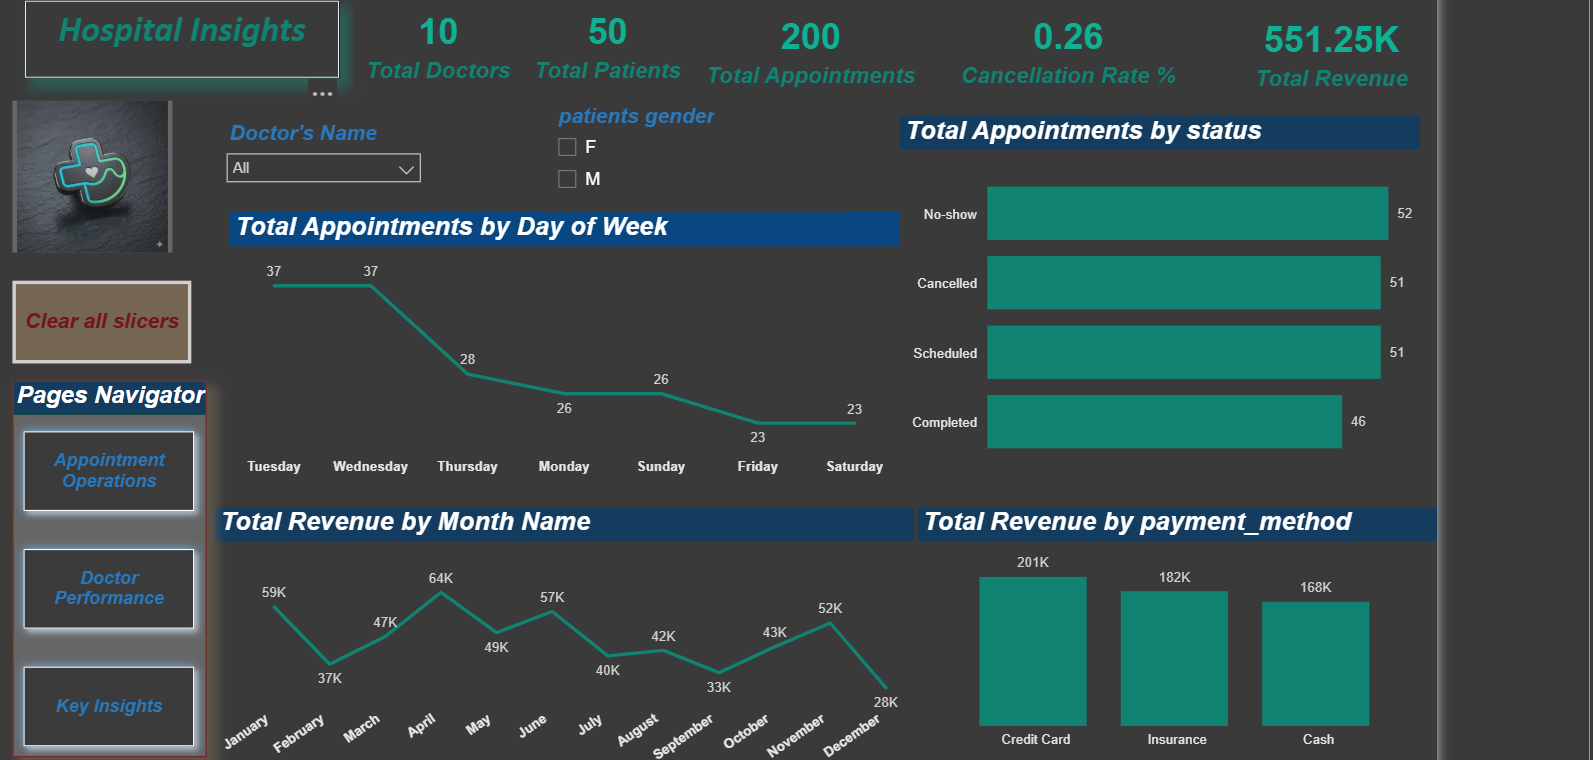

The page's visual inventory and layout, read from the dashboard file:
{"tool":"powerbi","page":{"name":"Hospital Insights","canvas":[1280,720],"ordinal":0},"visuals":[{"type":"textbox","box":[21.7,12.1,279.9,68.8],"z":0},{"type":"card","fields":{"Values":["doctors.Total Doctors"]},"box":[314.9,12.1,150.8,76],"z":1000},{"type":"card","fields":{"Values":["patients.Total Patients"]},"box":[465.7,12.1,152,76],"z":2000},{"type":"card","fields":{"Values":["appointments.Total Appointments"]},"box":[617.7,7.2,208.7,94.1],"z":3000},{"type":"card","fields":{"Values":["appointments.Cancellation Rate %"]},"box":[845.7,0,211.1,108.6],"z":4000},{"type":"card","fields":{"Values":["billing.Total Revenue"]},"box":[1107.5,0,156.8,114.6],"z":5000},{"type":"lineChart","fields":{"Y":["appointments.Total Appointments"],"Category":["Dim_Date.Day of Week"]},"box":[205.1,200.3,596,242.5],"z":6000},{"type":"lineChart","fields":{"Y":["billing.Total Revenue"],"Category":["Dim_Date.Month Name"]},"box":[191.8,463.3,622.5,244.9],"z":7000},{"type":"clusteredColumnChart","fields":{"Category":["billing.payment_method"],"Y":["billing.Total Revenue"]},"box":[816.8,463.3,463.3,223.2],"z":8000},{"type":"clusteredBarChart","fields":{"Category":["appointments.status"],"Y":["appointments.Total Appointments"]},"box":[801.1,114.6,463.3,328.2],"z":9000},{"type":"slicer","fields":{"Values":["doctors.Full Name"]},"box":[191.8,114.6,193,74.8],"z":10000},{"type":"image","box":[10.9,101.3,142.4,135.1],"z":11000},{"type":"slicer","fields":{"Values":["patients.gender"]},"box":[483.8,98.9,269,101.3],"z":12000},{"type":"pageNavigator","title":"Pages Navigator","box":[10.9,351.1,172.5,335.4],"z":13000},{"type":"actionButton","box":[10.9,261.8,159.3,73.6],"z":14000}]}

Visuals, with their boxes on the page's 1280x720 design canvas (x1, y1, x2, y2). These are canvas units, not pixel positions in the 1593x760 screenshot, which may show the page scaled, cropped or inside an application window:
textbox: (22, 12, 302, 81)
card - doctors.Total Doctors: (315, 12, 466, 88)
card - patients.Total Patients: (466, 12, 618, 88)
card - appointments.Total Appointments: (618, 7, 826, 101)
card - appointments.Cancellation Rate %: (846, 0, 1057, 109)
card - billing.Total Revenue: (1108, 0, 1264, 115)
lineChart - appointments.Total Appointments x Dim_Date.Day of Week: (205, 200, 801, 443)
lineChart - billing.Total Revenue x Dim_Date.Month Name: (192, 463, 814, 708)
clusteredColumnChart - billing.payment_method x billing.Total Revenue: (817, 463, 1280, 686)
clusteredBarChart - appointments.status x appointments.Total Appointments: (801, 115, 1264, 443)
slicer - doctors.Full Name: (192, 115, 385, 189)
image: (11, 101, 153, 236)
slicer - patients.gender: (484, 99, 753, 200)
"Pages Navigator" pageNavigator: (11, 351, 183, 686)
actionButton: (11, 262, 170, 335)
